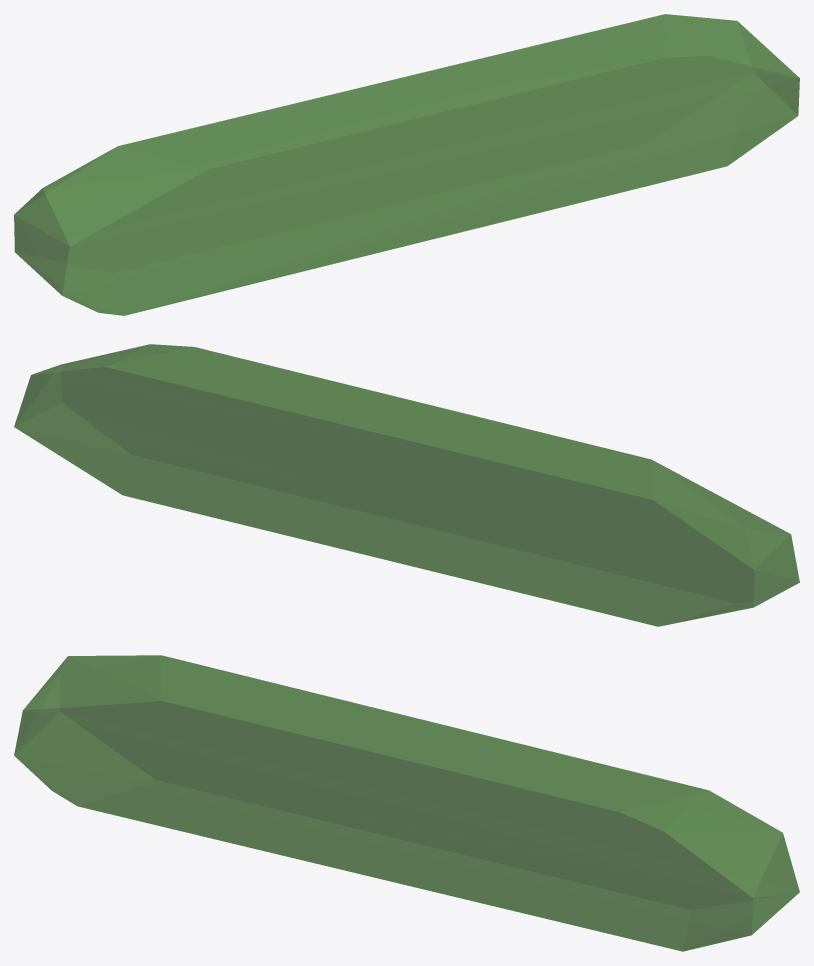
3 renders of one model, top to bottom at view 1: azimuth 30°, elevation 25°; view 2: azimuth 150°, elevation 25°; view 3: azimuth 330°, elevation 25°, orthographic.
Parts seen in each view (by area): view 1: Shape_IndexedFaceSet.167_Shape_IndexedFaceSet.596; view 2: Shape_IndexedFaceSet.167_Shape_IndexedFaceSet.596; view 3: Shape_IndexedFaceSet.167_Shape_IndexedFaceSet.596.
Boxes of the visible parts, bbox=[...] form: Shape_IndexedFaceSet.167_Shape_IndexedFaceSet.596: bbox=[14, 14, 799, 315]; Shape_IndexedFaceSet.167_Shape_IndexedFaceSet.596: bbox=[14, 344, 799, 626]; Shape_IndexedFaceSet.167_Shape_IndexedFaceSet.596: bbox=[14, 655, 799, 951].
Size of the model in its own units: 0.3386 by 0.0557 by 0.0372.
